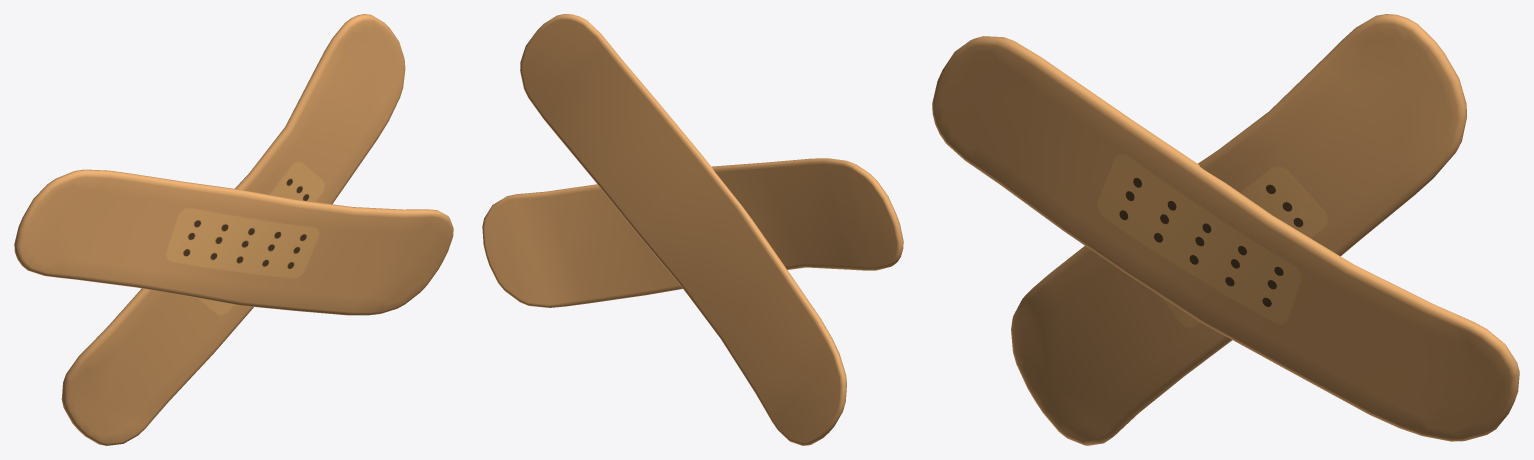
File: uploads_files_4178695_plaster.fbx
3 views of the same model, side by side, from view 1: azimuth 30°, elevation 25°; view 2: azimuth 150°, elevation 25°; view 3: azimuth 330°, elevation 25° (orthographic). The views are drawn at different scales.
Visible parts, largest first — view 1: plaster; view 2: plaster; view 3: plaster.
Part boxes in pixels (x1,y1,x2,y2): plaster: (14,14,453,445); plaster: (482,14,903,445); plaster: (932,14,1519,445).
Bounding box in the file's own units: 90.51 × 74.99 × 10.09.
